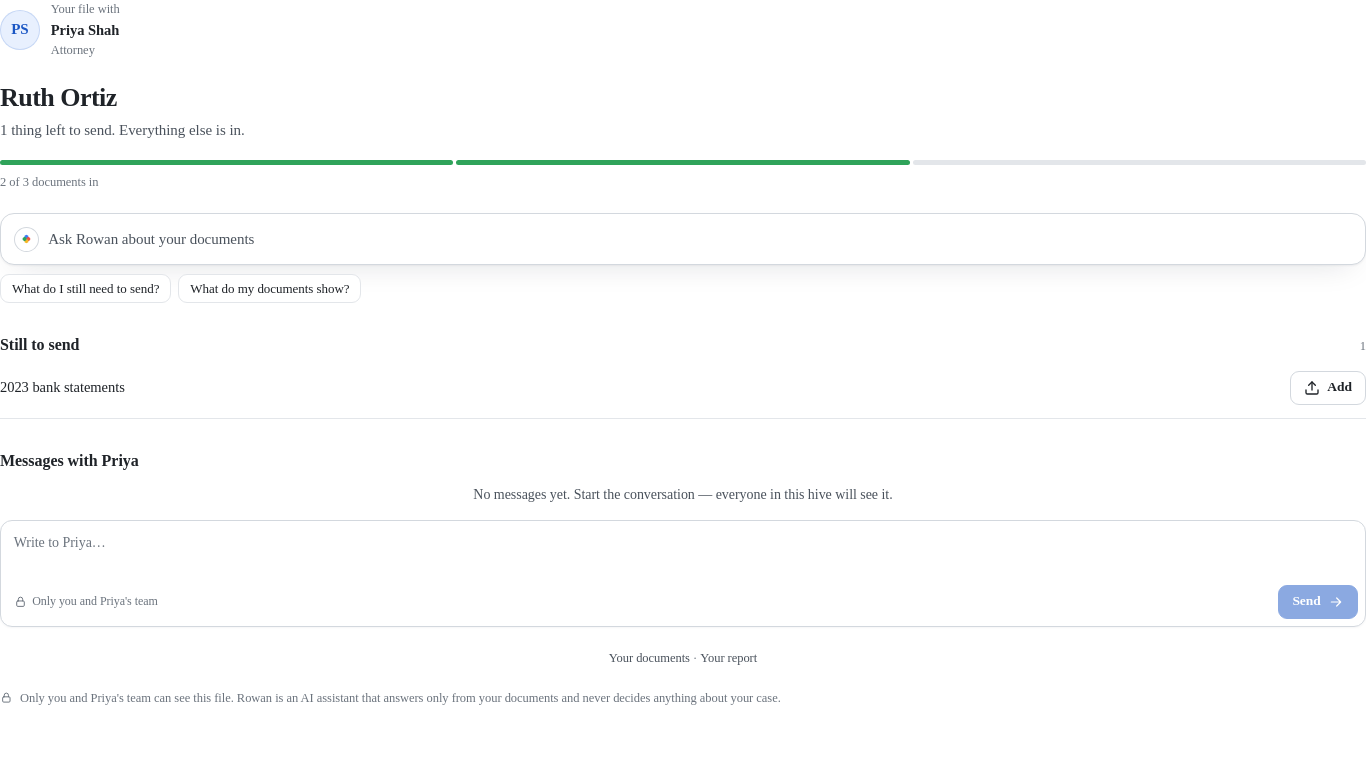
ClientHome › offers data-driven chips that ask straight into the sheet
Step 1. Click the button "What do I still need to send?" → (86, 289), box [0,274,171,303]
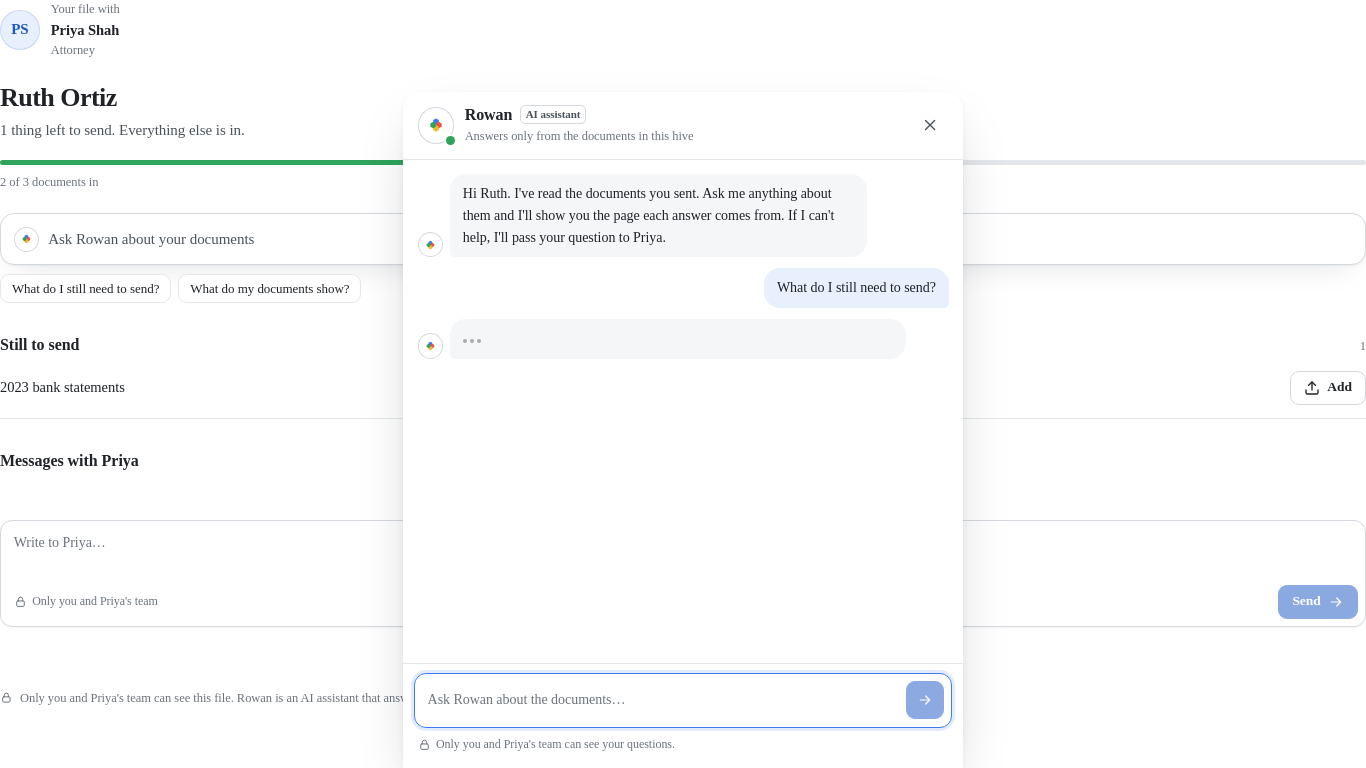
Result: the dialog is shown at [403,92,963,767]
